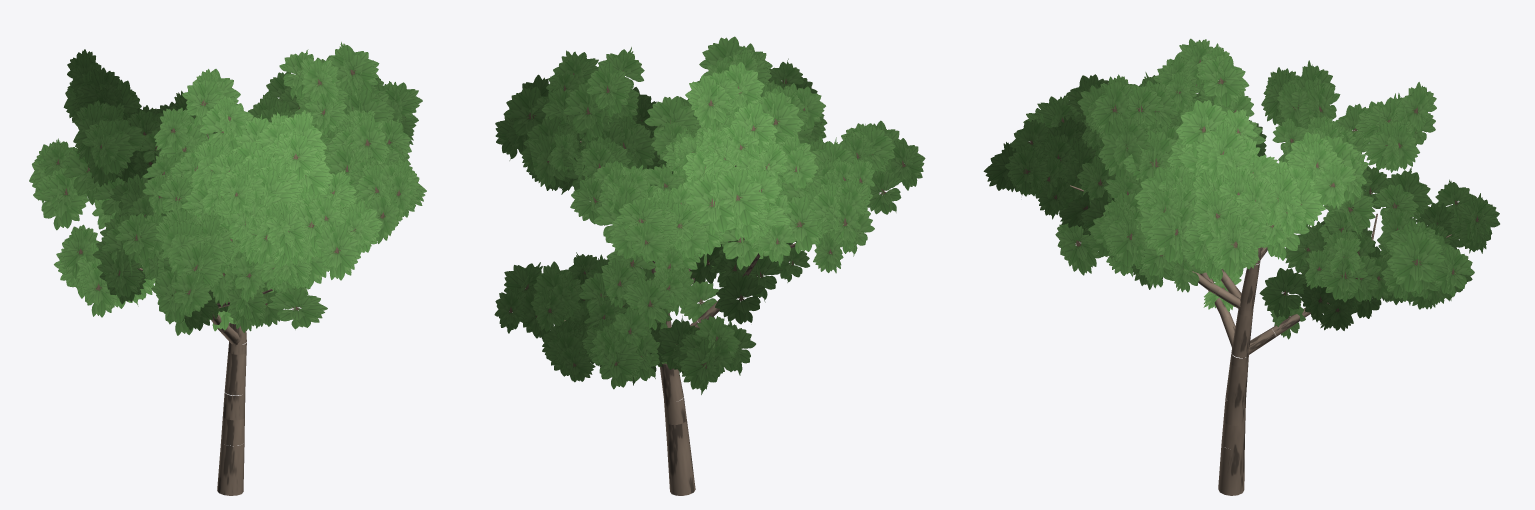
File: tree_c.gltf
3 renders of one model, left to right at view 1: azimuth 30°, elevation 25°; view 2: azimuth 150°, elevation 25°; view 3: azimuth 270°, elevation 25°, orthographic. The views are drawn at different scales.
Parts seen in each view (by area): view 1: Leaves, Trunk; view 2: Leaves, Trunk; view 3: Leaves, Trunk.
Part boxes in pixels (bbox=[...]): Leaves: bbox=[29, 42, 426, 335]; Trunk: bbox=[137, 125, 272, 495]; Leaves: bbox=[494, 36, 925, 394]; Trunk: bbox=[564, 141, 795, 495]; Leaves: bbox=[983, 38, 1499, 339]; Trunk: bbox=[1070, 84, 1451, 495].
Size of the model in its own units: 10.36 by 11.73 by 13.1.
2 materials, 2 textured.
